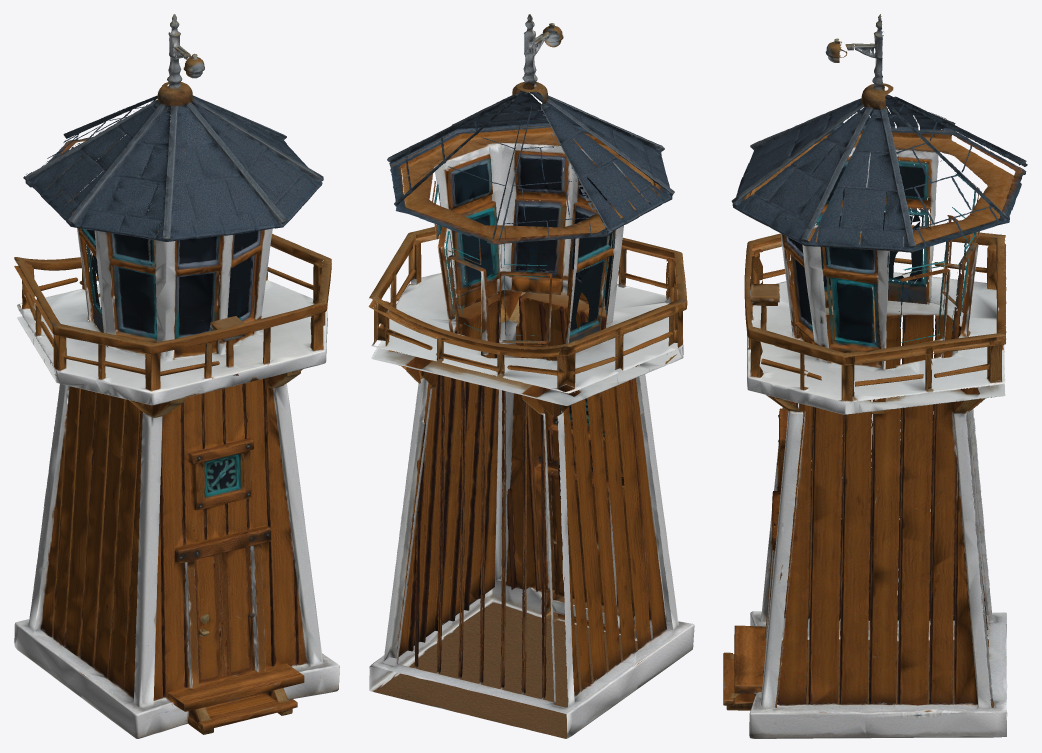
File: pier_tower.glb
3 renders of one model, left to right at view 1: azimuth 30°, elevation 25°; view 2: azimuth 150°, elevation 25°; view 3: azimuth 270°, elevation 25°, orthographic. The views are drawn at different scales.
Size of the model in its own units: 0.844 by 1.9 by 0.778.
1 material, 1 textured.
